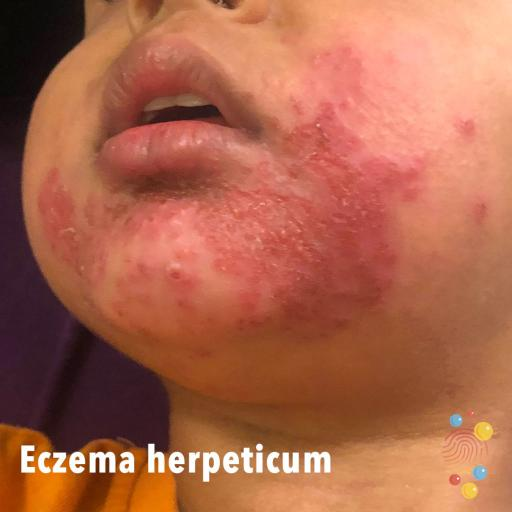Skin_Lesion: (282, 102, 384, 206), (36, 182, 116, 282), (232, 198, 318, 288), (162, 260, 200, 316), (452, 106, 482, 150), (467, 189, 493, 239)
